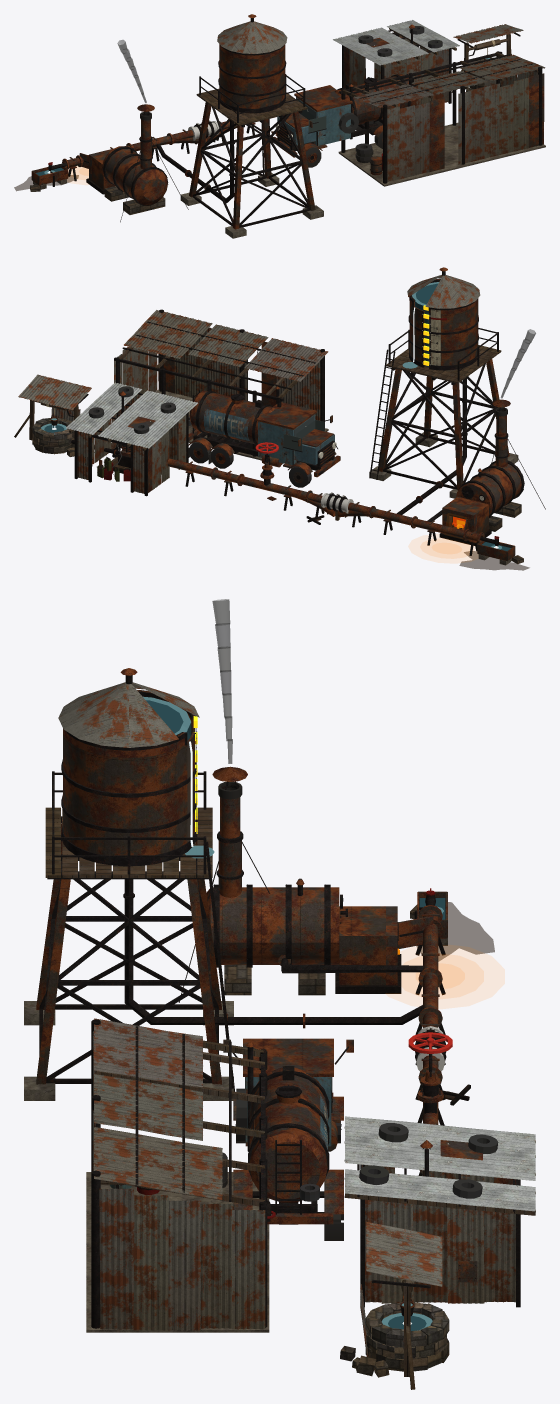
File: water-works.glb
3 renders of one model, top to bottom at view 1: azimuth 30°, elevation 25°; view 2: azimuth 150°, elevation 25°; view 3: azimuth 270°, elevation 25°, orthographic. The views are drawn at different scales.
Parts seen in each view (by area): view 1: truck-bay, tower, water-truck, boiler-cold, pump-house-roof, pump-house, well, pipe-patched, boiler-lit, camp-tap, pipe-cut, tap-running; view 2: tower, truck-bay, water-truck, boiler-cold, pump-house-roof, pump-house, well, pipe-cut, pipe-patched, boiler-lit, camp-tap, tap-running (+4 smaller); view 3: truck-bay, tower, boiler-cold, water-truck, pump-house-roof, pump-house, well, boiler-lit, pipe-cut, pipe-patched, tap-running, tower-water-8 (+1 smaller).
Part boxes in pixels (x1,y1,x2,y2): truck-bay: [338, 51, 545, 186]; tower: [156, 14, 323, 238]; water-truck: [273, 74, 416, 167]; boiler-cold: [79, 113, 188, 222]; pump-house-roof: [333, 20, 459, 67]; pump-house: [342, 32, 451, 105]; well: [451, 24, 523, 92]; pipe-patched: [64, 116, 276, 167]; boiler-lit: [70, 40, 154, 180]; camp-tap: [30, 158, 69, 191]; pipe-cut: [65, 117, 275, 181]; tap-running: [14, 167, 78, 191]; tower: [369, 267, 518, 514]; truck-bay: [114, 309, 328, 464]; water-truck: [188, 386, 340, 487]; boiler-cold: [427, 409, 545, 545]; pump-house-roof: [66, 382, 197, 450]; pump-house: [74, 395, 188, 496]; well: [14, 374, 94, 456]; pipe-cut: [167, 458, 481, 555]; pipe-patched: [167, 459, 478, 540]; boiler-lit: [420, 329, 535, 558]; camp-tap: [477, 532, 523, 565]; tap-running: [459, 542, 529, 570]; truck-bay: [86, 1018, 269, 1332]; tower: [24, 668, 422, 1100]; boiler-cold: [178, 785, 433, 1002]; water-truck: [223, 1038, 353, 1240]; pump-house-roof: [344, 1116, 535, 1215]; pump-house: [360, 1164, 520, 1307]; well: [340, 1222, 449, 1389]; boiler-lit: [212, 599, 483, 999]; pipe-cut: [415, 910, 470, 1176]; pipe-patched: [415, 910, 446, 1124]; tap-running: [416, 898, 494, 961]; tower-water-8: [143, 696, 214, 858].
Size of the model in its own units: 29.78 by 11.06 by 13.16.
28 materials, 12 textured.
